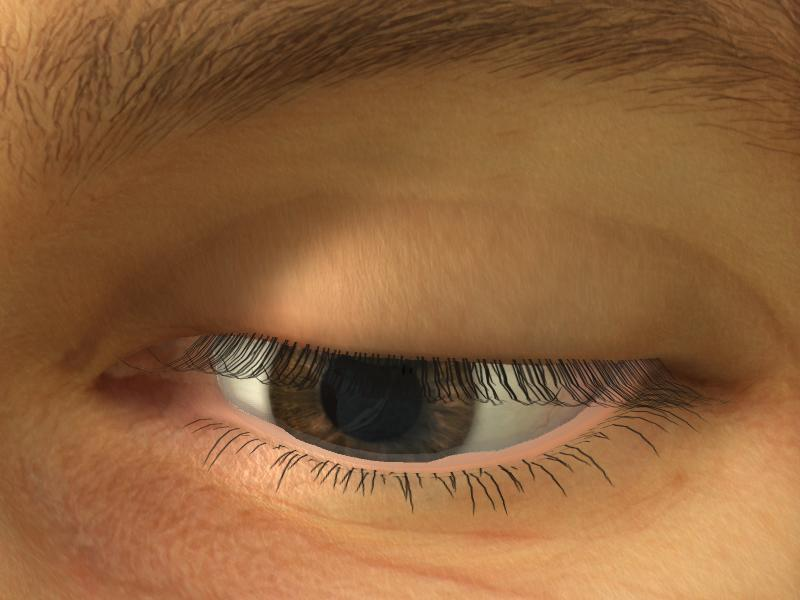eye: (269, 340, 478, 462)
